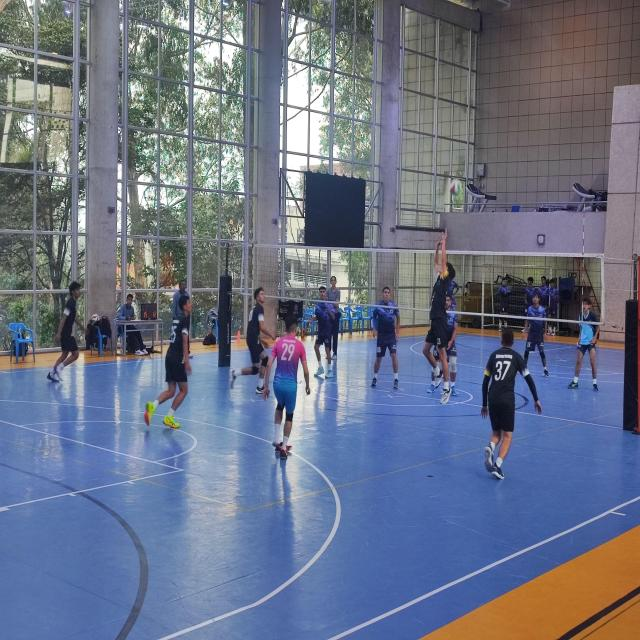volleyball: (450, 179, 461, 196), (91, 314, 100, 324)
